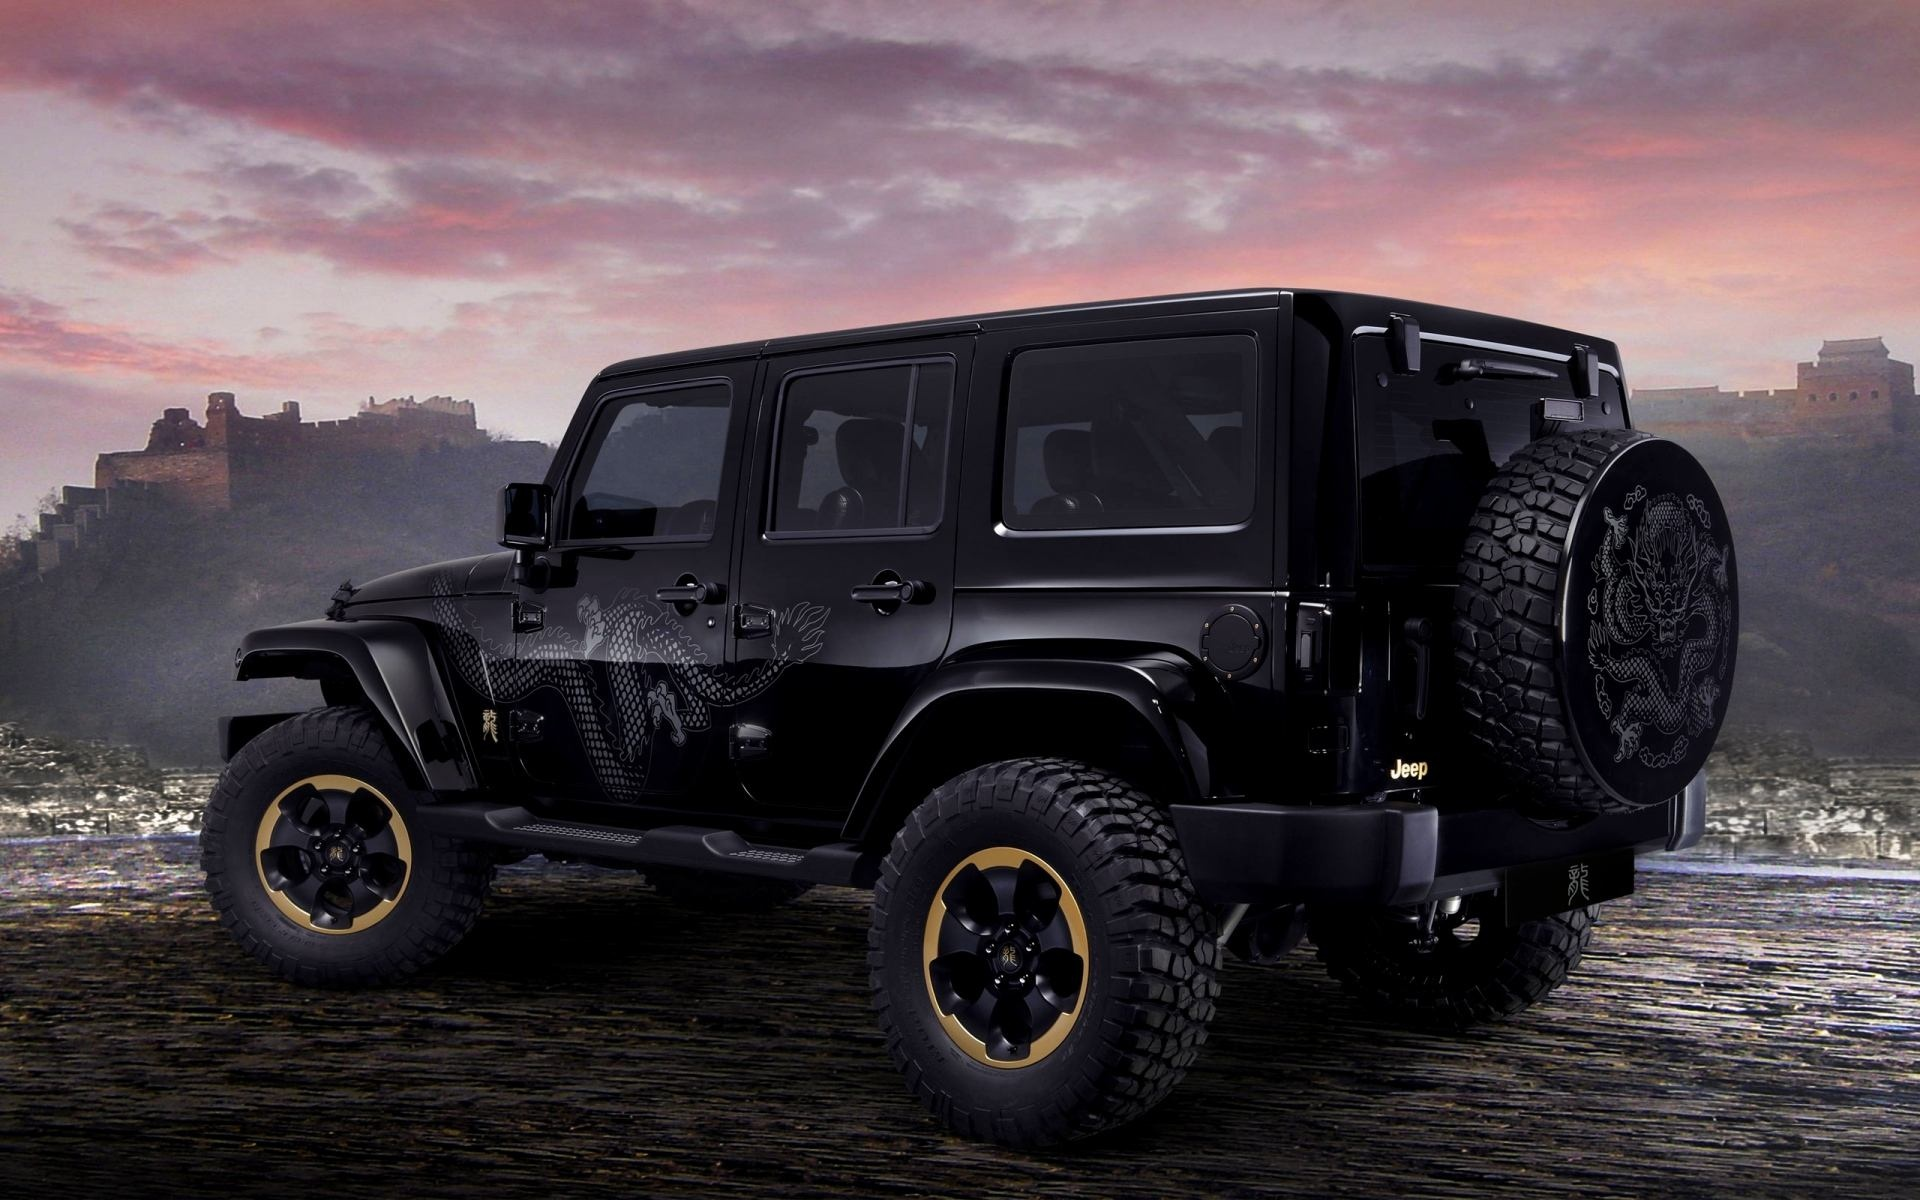jeep: (249, 314, 1709, 1087)
